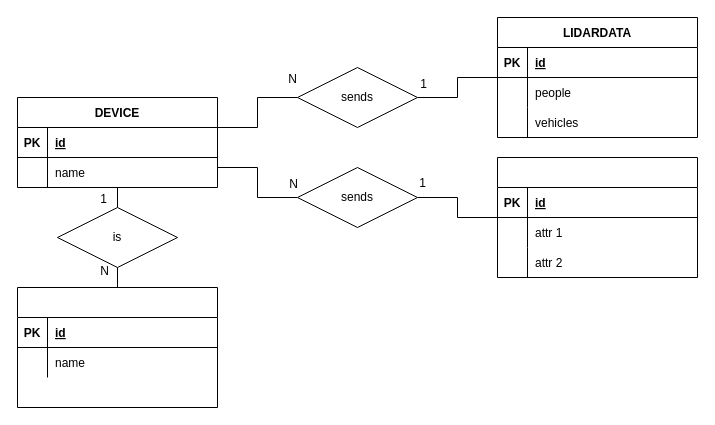
This 715x425 diagram has some shape labels left out. The shapes that lost their labels are listed below. From the top down, each one's box as (x1, y1, x2, y2) in pixels, then its label:
(496, 156, 698, 278): AIR
(16, 286, 218, 408): DEVICETYPE
